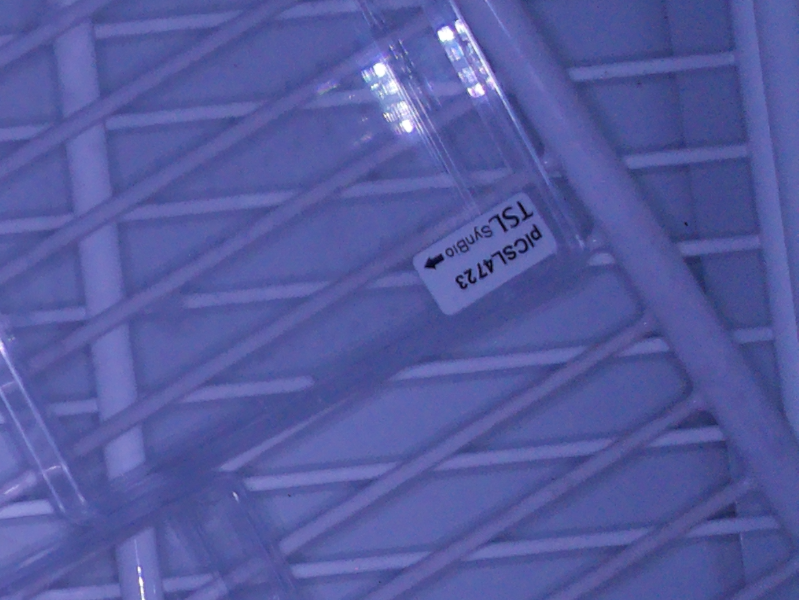plate: (1, 1, 589, 534), (1, 471, 305, 600)
